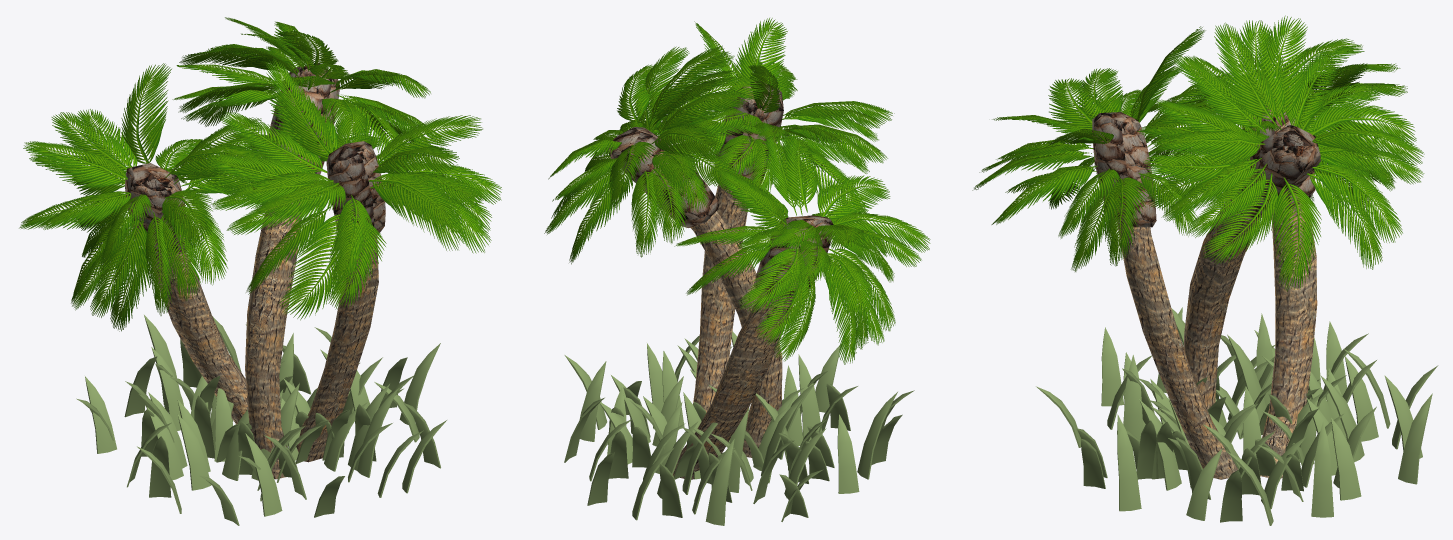
Rendered from Palm Tree 2.fbx.
3 views of the same model, side by side, from view 1: azimuth 30°, elevation 25°; view 2: azimuth 150°, elevation 25°; view 3: azimuth 270°, elevation 25° (orthographic). The views are drawn at different scales.
Visible parts, largest first — view 1: Palm_Cluster; view 2: Palm_Cluster; view 3: Palm_Cluster.
Boxes of the visible parts, x1,y1,x2,y2 form: Palm_Cluster: (19, 17, 501, 525); Palm_Cluster: (544, 18, 930, 525); Palm_Cluster: (972, 15, 1438, 525).
Size of the model in its own units: 771 by 812 by 791.
Materials: 5 (3 with a texture image).
